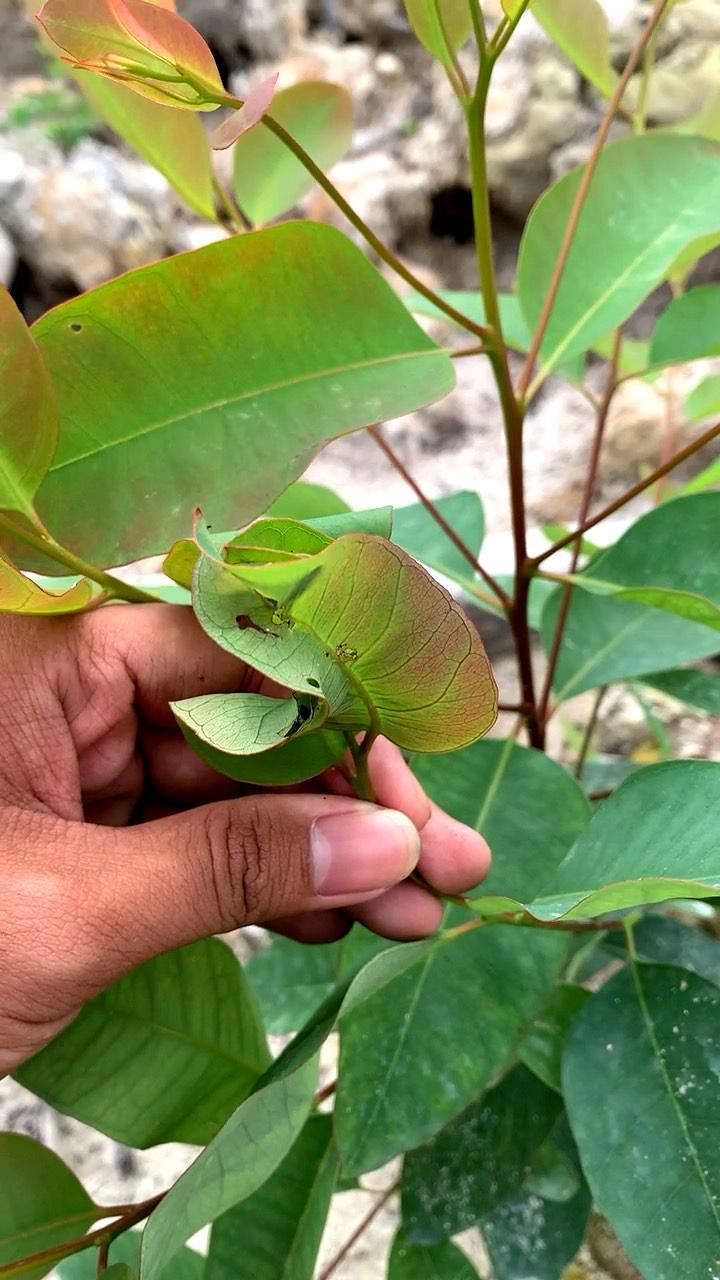Leaf Roller - Leaf: (161, 503, 508, 820)
